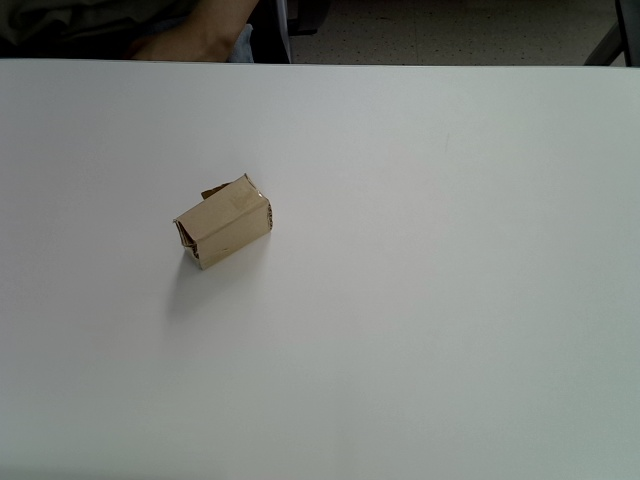defect: (174, 173, 274, 273)
